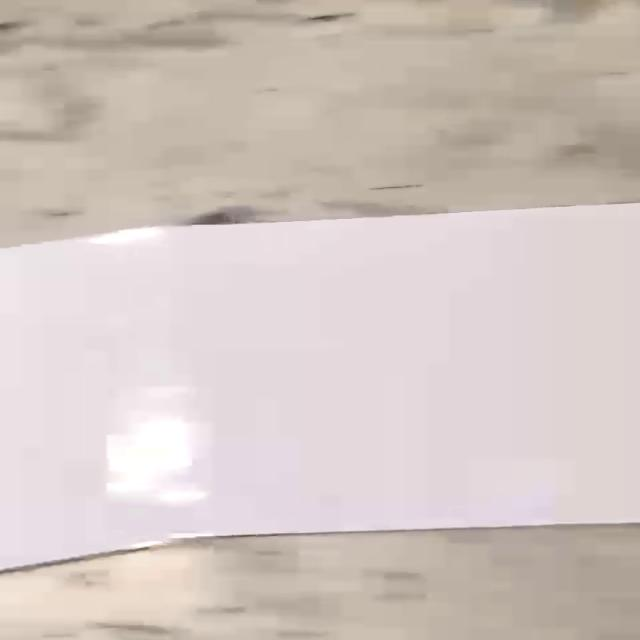road: (1, 205, 639, 566)
